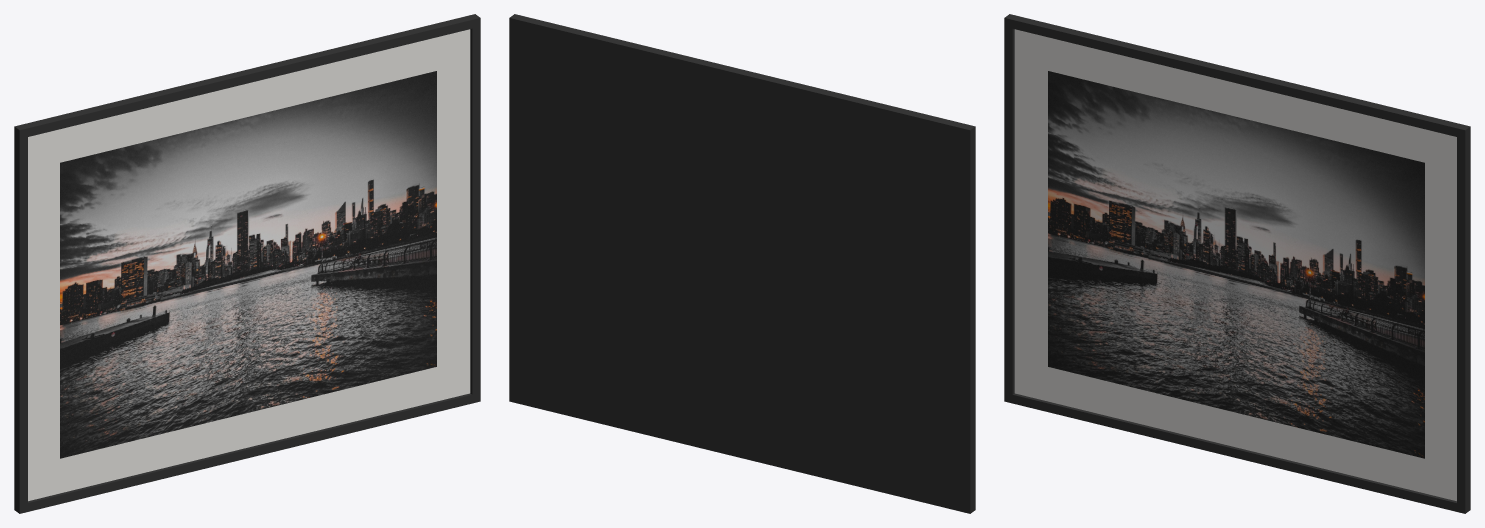
Rendered from manhattan-90.gltf.
3 views of the same model, side by side, from view 1: azimuth 30°, elevation 25°; view 2: azimuth 150°, elevation 25°; view 3: azimuth 330°, elevation 25° (orthographic).
Parts seen in each view (by area): view 1: tavla; view 2: tavla; view 3: tavla.
Boxes of the visible parts, x1,y1,x2,y2 form: tavla: [14, 14, 480, 513]; tavla: [509, 14, 975, 513]; tavla: [1004, 14, 1470, 513].
Size of the model in its own units: 1.1 by 0.875 by 0.022.
3 materials, 1 textured.
